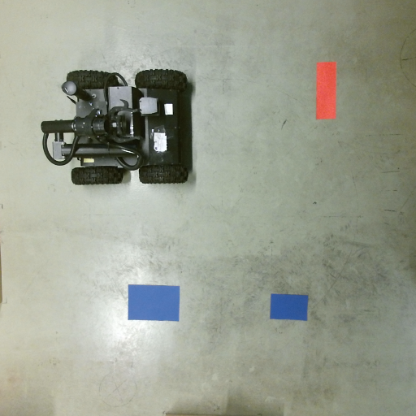Blue: (125, 281, 182, 323), (267, 290, 311, 322)
Jaguar: (40, 67, 191, 187)
Red: (313, 59, 340, 122)
